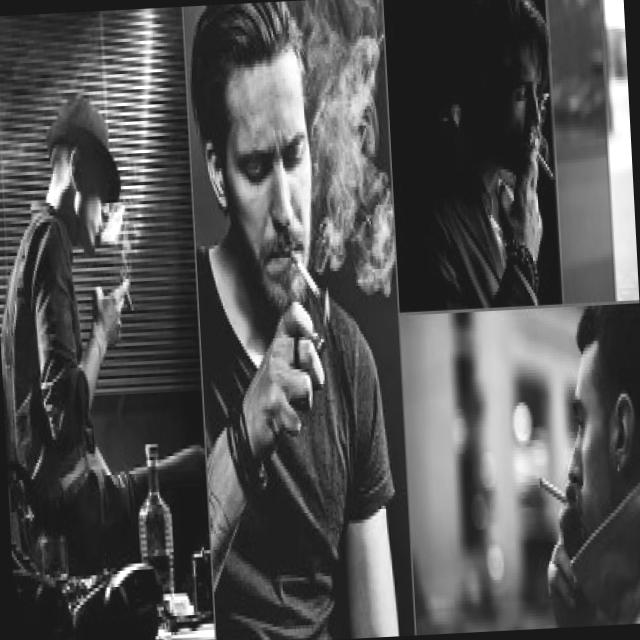cigarette: (287, 242, 322, 306), (534, 467, 572, 514), (115, 262, 137, 318), (533, 141, 558, 190)
